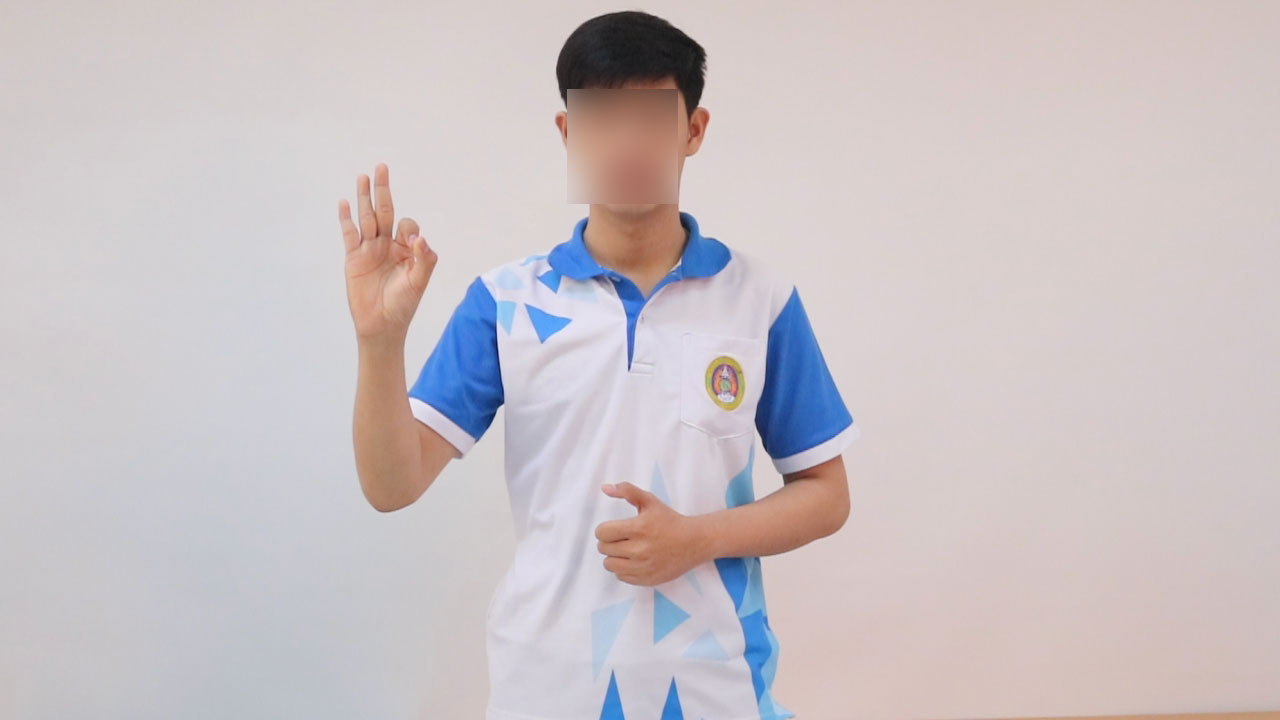for: (329, 152, 448, 358)
